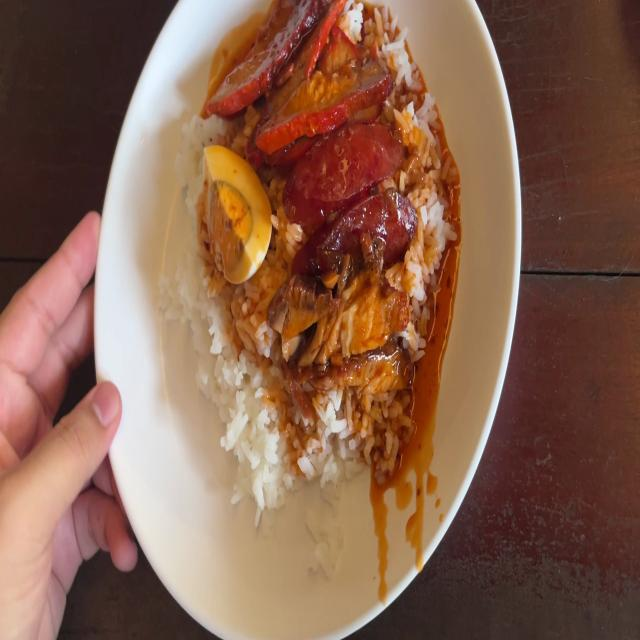01boiled_egg: (204, 162, 272, 272)
01chainese_sausage: (289, 136, 408, 270)
01crispy_pork: (278, 280, 412, 389)
01red_pork: (212, 0, 387, 125)
01red_pork_and_crispy_pork: (178, 0, 451, 485)
01rice: (244, 395, 402, 506), (176, 284, 273, 451)
